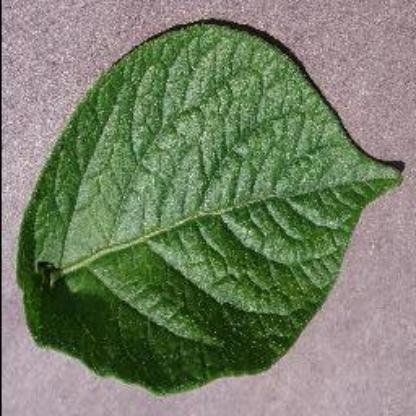Healthy-plant: (23, 12, 377, 398)
